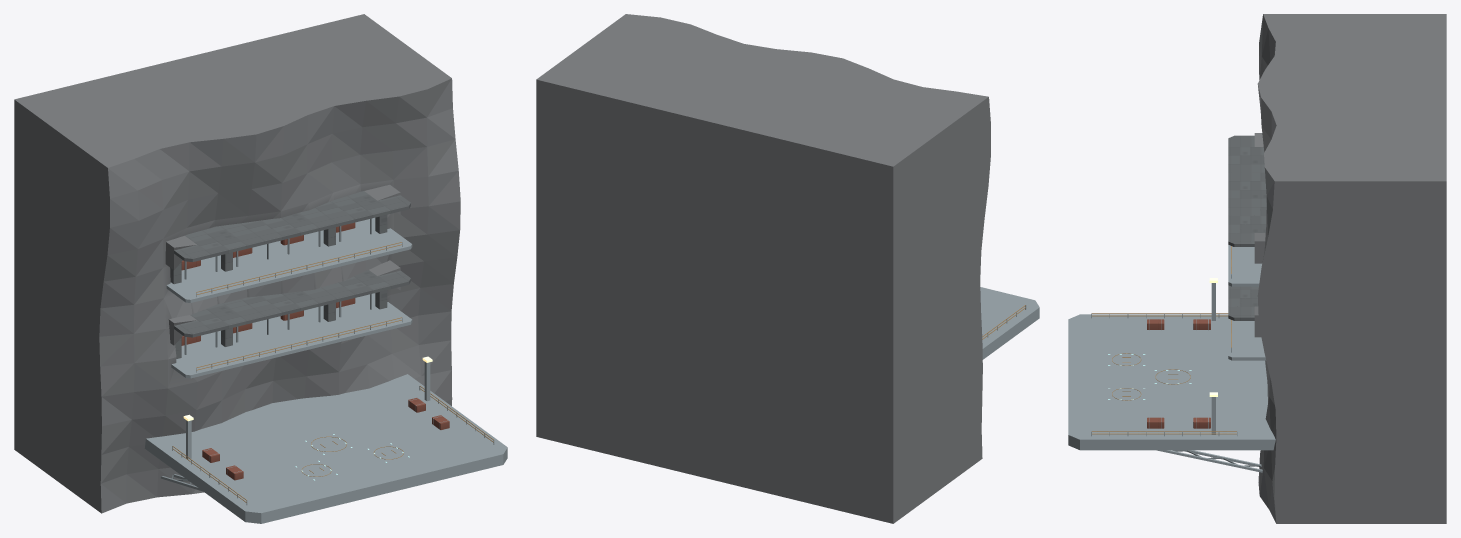
File: blackglass.glb
The picture shows the model from 3 angles, left to right: view 1: azimuth 30°, elevation 25°; view 2: azimuth 150°, elevation 25°; view 3: azimuth 270°, elevation 25°; orthographic projection. The views are drawn at different scales.
Visible parts, largest first — view 1: blackglass / rock, blackglass / metal, blackglass / hull, blackglass / copper, blackglass / ochre; view 2: blackglass / rock, blackglass / metal; view 3: blackglass / rock, blackglass / metal, blackglass / hull, blackglass / ochre, blackglass / copper.
Boxes of the visible parts, x1,y1,x2,y2 form: blackglass / rock: [14, 14, 460, 513]; blackglass / metal: [144, 217, 507, 523]; blackglass / hull: [170, 191, 410, 358]; blackglass / copper: [181, 222, 449, 480]; blackglass / ochre: [172, 242, 493, 502]; blackglass / rock: [536, 14, 990, 523]; blackglass / metal: [980, 287, 1039, 359]; blackglass / rock: [1254, 14, 1446, 523]; blackglass / metal: [1068, 245, 1275, 472]; blackglass / hull: [1228, 135, 1266, 320]; blackglass / ochre: [1092, 246, 1236, 434]; blackglass / copper: [1147, 319, 1210, 428].
Bounding box in the file's own units: 109 × 105 × 105.
10 materials, 4 textured.
